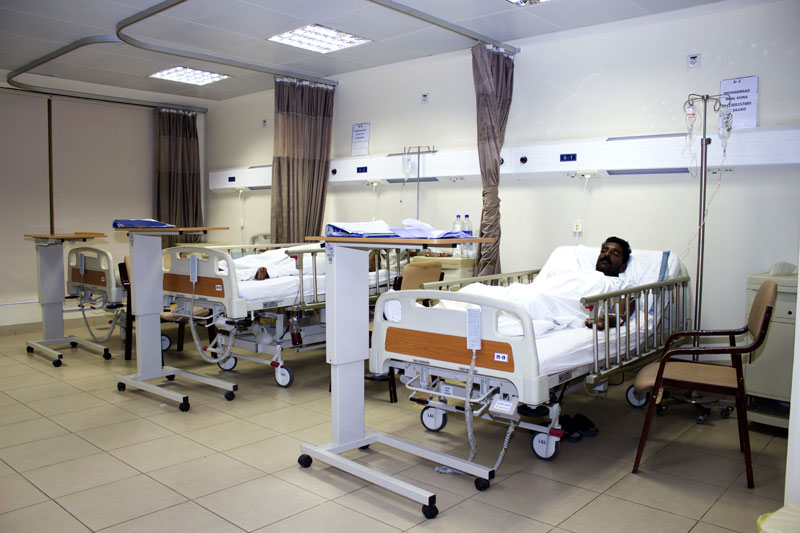hospital bed: (360, 241, 683, 378)
